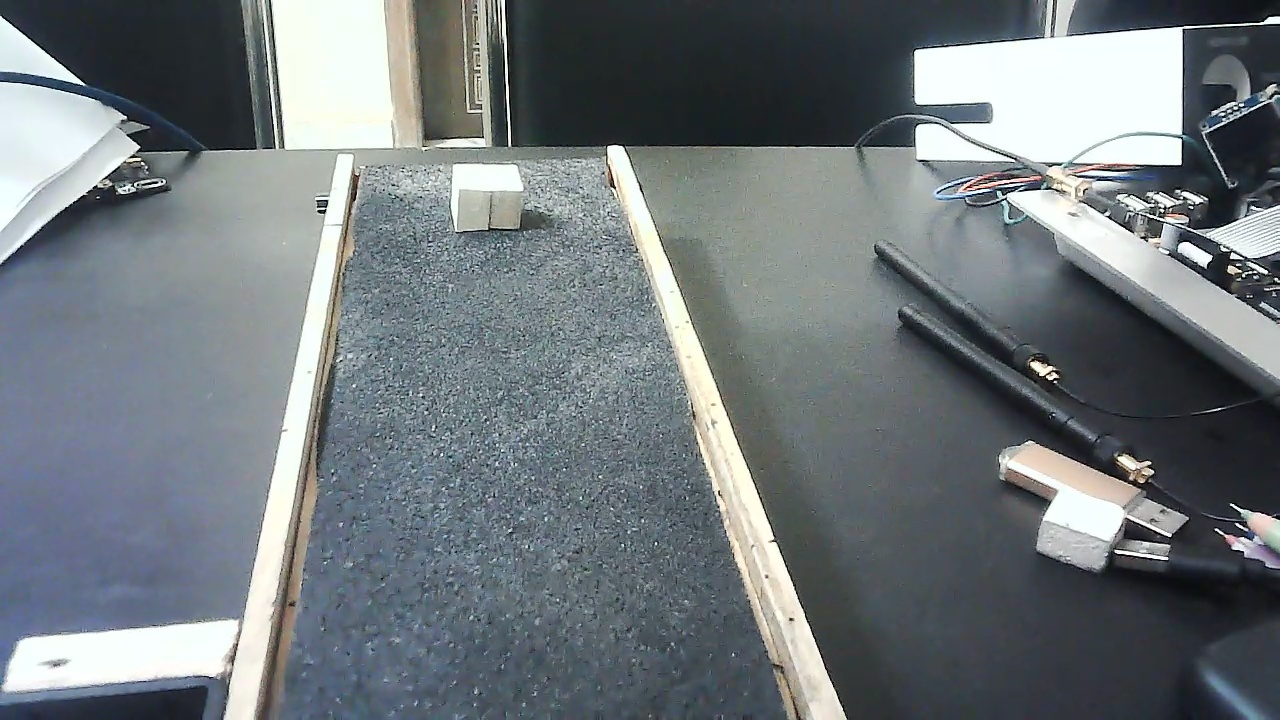Small: (450, 162, 524, 236)
